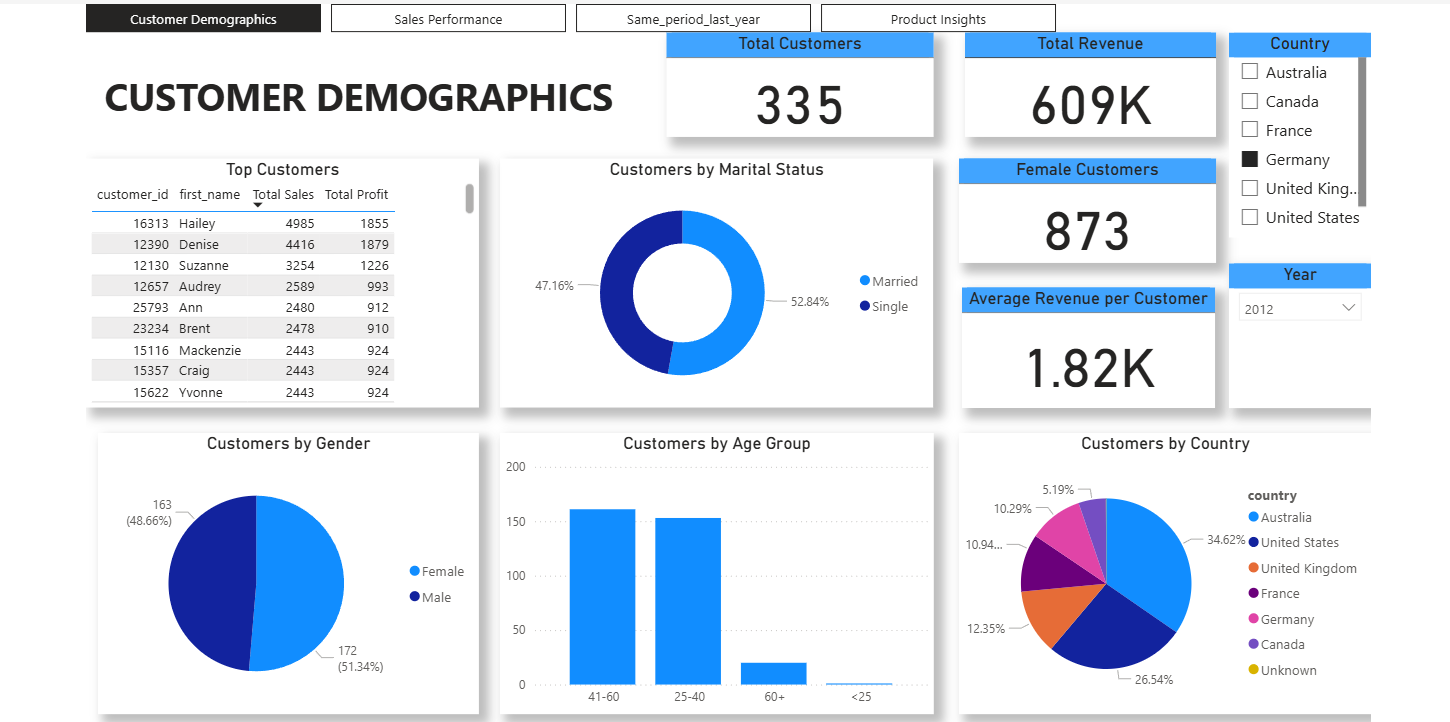

The dashboard page shown, as its layout file describes it:
{"tool":"powerbi","page":{"name":"Customer Demographics","canvas":[1280,720],"ordinal":0},"visuals":[{"type":"card","title":"Total Customers","fields":{"Values":["Table.total_cust"]},"box":[577.4,28,265.7,103.9],"z":0},{"type":"pieChart","title":"Customers by Gender","fields":{"Category":["project customers.gender"],"Y":["Table.total_cust"]},"box":[12,427.6,379.6,279.7],"z":1000},{"type":"clusteredColumnChart","title":"Customers by Age Group","fields":{"Category":["project sales.Age Group"],"Y":["Table.total_cust"]},"box":[411.5,427.4,432.1,280.2],"z":2000},{"type":"pieChart","title":"Customers by Country","fields":{"Category":["project customers.country"],"Y":["Table.total_cust"]},"box":[869,427.4,411.5,280.2],"z":3000},{"type":"card","title":"Total Revenue","fields":{"Values":["Table.Total_revenue"]},"box":[875.1,28,249.7,103.9],"z":4000},{"type":"card","title":"Average Revenue per Customer","fields":{"Values":["Table.Avg Revenue per Customer"]},"box":[873.1,281.7,251.7,119.9],"z":5000},{"type":"donutChart","title":"Customers by Marital Status","fields":{"Category":["project customers.marital_status"],"Y":["Table.total_cust"]},"box":[411.6,153.8,431.6,247.7],"z":6000},{"type":"card","title":"Female Customers","fields":{"Values":["Table.female_cust"]},"box":[869.1,153.8,255.7,103.9],"z":7000},{"type":"slicer","title":"Year","fields":{"Values":["project sales.order_year"]},"box":[1138.8,257.7,141.9,143.9],"z":8000},{"type":"slicer","title":"Country","fields":{"Values":["project customers.country"]},"box":[1138.8,28,141.9,203.8],"z":9000},{"type":"tableEx","title":"Top Customers","fields":{"Values":["project customers.customer_id","project customers.first_name","project sales.Total Sales","project sales.Total Profit"]},"box":[0,153.8,391.6,247.7],"z":10000},{"type":"textbox","box":[14,61.9,531.5,67.9],"z":11000},{"type":"pageNavigator","box":[0,0,966,28],"z":11001}]}

Visuals, with their boxes on the page's 1280x720 design canvas (x1, y1, x2, y2). These are canvas units, not pixel positions in the 1450x722 screenshot, which may show the page scaled, cropped or inside an application window:
"Total Customers" card: x1=577 y1=28 x2=843 y2=132
"Customers by Gender" pieChart: x1=12 y1=428 x2=392 y2=707
"Customers by Age Group" clusteredColumnChart: x1=412 y1=427 x2=844 y2=708
"Customers by Country" pieChart: x1=869 y1=427 x2=1280 y2=708
"Total Revenue" card: x1=875 y1=28 x2=1125 y2=132
"Average Revenue per Customer" card: x1=873 y1=282 x2=1125 y2=402
"Customers by Marital Status" donutChart: x1=412 y1=154 x2=843 y2=402
"Female Customers" card: x1=869 y1=154 x2=1125 y2=258
"Year" slicer: x1=1139 y1=258 x2=1281 y2=402
"Country" slicer: x1=1139 y1=28 x2=1281 y2=232
"Top Customers" tableEx: x1=0 y1=154 x2=392 y2=402
textbox: x1=14 y1=62 x2=546 y2=130
pageNavigator: x1=0 y1=0 x2=966 y2=28
